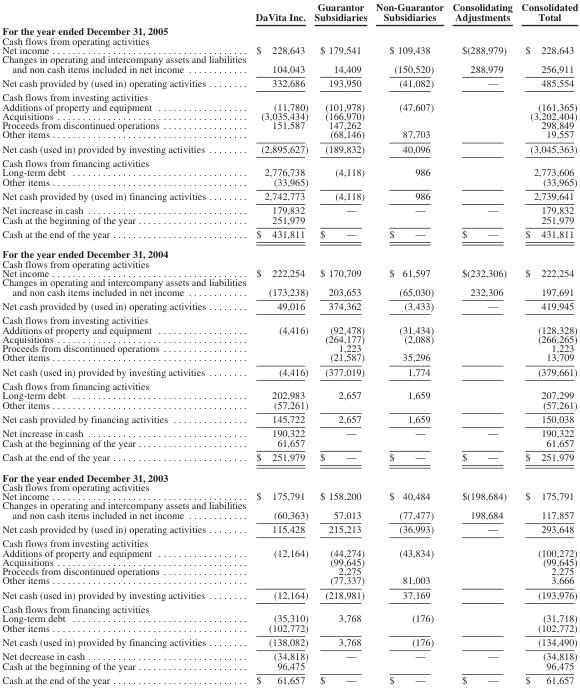table: (1, 0, 577, 685)
table column: (1, 0, 250, 685), (370, 0, 447, 685), (447, 0, 516, 685), (516, 0, 577, 685), (250, 0, 310, 685), (310, 0, 370, 685)
table column header: (1, 0, 577, 23)
table projected row header: (1, 243, 577, 258), (1, 466, 577, 481), (1, 23, 577, 35), (1, 89, 577, 101), (1, 155, 577, 167), (1, 312, 577, 324), (1, 378, 577, 390), (1, 535, 577, 547), (1, 601, 577, 613), (1, 481, 577, 491), (1, 35, 577, 44), (1, 258, 577, 267)
table row: (1, 0, 577, 23), (1, 54, 577, 75), (1, 277, 577, 298), (1, 500, 577, 521), (1, 226, 577, 243), (1, 449, 577, 466), (1, 243, 577, 258), (1, 466, 577, 481), (1, 75, 577, 89), (1, 141, 577, 155), (1, 188, 577, 202), (1, 298, 577, 312), (1, 364, 577, 378), (1, 411, 577, 425), (1, 521, 577, 535), (1, 587, 577, 601), (1, 634, 577, 648), (1, 672, 577, 685), (1, 23, 577, 35), (1, 89, 577, 101), (1, 129, 577, 141), (1, 155, 577, 167), (1, 176, 577, 188), (1, 202, 577, 214), (1, 214, 577, 226), (1, 312, 577, 324), (1, 352, 577, 364), (1, 378, 577, 390), (1, 399, 577, 411), (1, 425, 577, 437), (1, 437, 577, 449), (1, 535, 577, 547), (1, 575, 577, 587), (1, 601, 577, 613), (1, 622, 577, 634), (1, 648, 577, 660), (1, 660, 577, 672), (1, 44, 577, 54), (1, 119, 577, 129), (1, 267, 577, 277), (1, 333, 577, 343), (1, 481, 577, 491), (1, 556, 577, 566), (1, 35, 577, 44), (1, 101, 577, 110), (1, 110, 577, 119), (1, 167, 577, 176), (1, 258, 577, 267), (1, 324, 577, 333), (1, 343, 577, 352), (1, 390, 577, 399), (1, 491, 577, 500), (1, 547, 577, 556), (1, 566, 577, 575), (1, 613, 577, 622)
